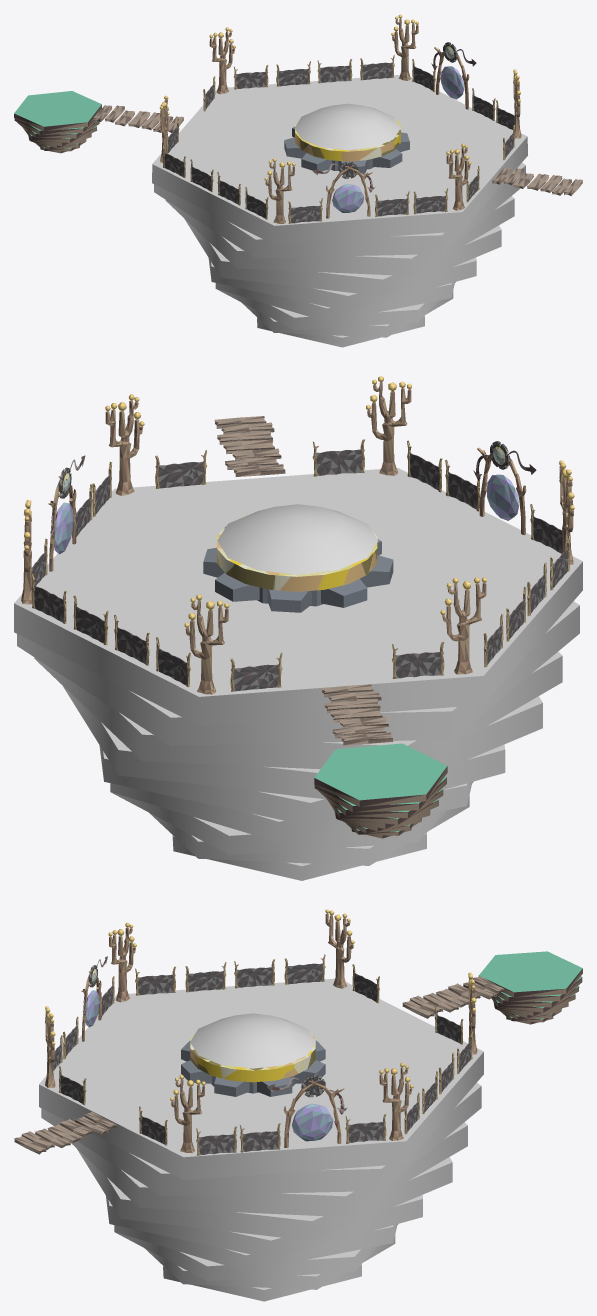
The model's file is Isla_Mecanica_Isla_Entera.FBX.
3 renders of one model, top to bottom at view 1: azimuth 30°, elevation 25°; view 2: azimuth 150°, elevation 25°; view 3: azimuth 270°, elevation 25°, orthographic. The views are drawn at different scales.
Parts seen in each view (by area): view 1: Isla_Mecanica_Isla_Grande, Isla_Mecanica_Suelo, Isla_Mecanica_Reloj_cupula, Isla_Mecanica_Isla_pequena_suelo, Isla_Mecanica_Isla_Pequena_01, Isla_Mecanica_Reloj_tuerca, Isla_Fantasma_Puente003, Isla_Mecanica_Reloj, Isla_Fantasma_Puente002, Isla_Mecanica_Arbol_006, Isla_Mecanica_Arbol_002, Isla_Mecanica_Arbol_005 (+13 smaller); view 2: Isla_Mecanica_Isla_Grande, Isla_Mecanica_Suelo, Isla_Mecanica_Reloj_cupula, Isla_Mecanica_Isla_pequena_suelo, Isla_Mecanica_Reloj_tuerca, Isla_Mecanica_Isla_Pequena_01, Isla_Fantasma_Puente002, Isla_Fantasma_Puente003, Isla_Mecanica_Reloj, Isla_Mecanica_Arbol_004, Isla_Mecanica_Arbol_006, Isla_Mecanica_Arbol_003 (+18 smaller); view 3: Isla_Mecanica_Isla_Grande, Isla_Mecanica_Suelo, Isla_Mecanica_Reloj_cupula, Isla_Mecanica_Isla_pequena_suelo, Isla_Mecanica_Isla_Pequena_01, Isla_Mecanica_Reloj_tuerca, Isla_Fantasma_Puente003, Isla_Mecanica_Reloj, Isla_Fantasma_Puente002, Isla_Mecanica_Portal_002, Isla_Mecanica_Arbol_005, Isla_Mecanica_Arbol_004 (+17 smaller).
Part boxes in pixels (x1,y1,x2,y2): Isla_Mecanica_Isla_Grande: (152, 137, 527, 347); Isla_Mecanica_Suelo: (152, 75, 527, 225); Isla_Mecanica_Reloj_cupula: (294, 103, 400, 150); Isla_Mecanica_Isla_pequena_suelo: (14, 91, 101, 126); Isla_Mecanica_Isla_Pequena_01: (14, 105, 101, 153); Isla_Mecanica_Reloj_tuerca: (284, 126, 409, 174); Isla_Fantasma_Puente003: (492, 167, 582, 195); Isla_Mecanica_Reloj: (295, 111, 400, 161); Isla_Fantasma_Puente002: (93, 105, 183, 132); Isla_Mecanica_Arbol_006: (209, 27, 235, 94); Isla_Mecanica_Arbol_002: (264, 158, 295, 223); Isla_Mecanica_Arbol_005: (391, 14, 418, 80); Isla_Mecanica_Isla_Grande: (14, 562, 582, 880); Isla_Mecanica_Suelo: (14, 467, 582, 696); Isla_Mecanica_Reloj_cupula: (217, 504, 378, 574); Isla_Mecanica_Isla_pequena_suelo: (314, 743, 447, 800); Isla_Mecanica_Reloj_tuerca: (203, 539, 393, 612); Isla_Mecanica_Isla_Pequena_01: (314, 766, 447, 838); Isla_Fantasma_Puente002: (321, 684, 393, 745); Isla_Fantasma_Puente003: (214, 416, 285, 476); Isla_Mecanica_Reloj: (217, 516, 377, 591); Isla_Mecanica_Arbol_004: (105, 394, 144, 495); Isla_Mecanica_Arbol_006: (184, 594, 229, 694); Isla_Mecanica_Arbol_003: (366, 376, 411, 475); Isla_Mecanica_Isla_Grande: (39, 1052, 483, 1301); Isla_Mecanica_Suelo: (39, 978, 483, 1157); Isla_Mecanica_Reloj_cupula: (190, 1013, 315, 1068); Isla_Mecanica_Isla_pequena_suelo: (479, 951, 582, 992); Isla_Mecanica_Isla_Pequena_01: (484, 968, 582, 1024); Isla_Mecanica_Reloj_tuerca: (181, 1040, 325, 1096); Isla_Fantasma_Puente003: (14, 1111, 116, 1154); Isla_Mecanica_Reloj: (190, 1033, 315, 1082); Isla_Fantasma_Puente002: (402, 976, 504, 1018); Isla_Mecanica_Portal_002: (267, 1074, 347, 1147); Isla_Mecanica_Arbol_005: (379, 1062, 413, 1140); Isla_Mecanica_Arbol_004: (170, 1075, 205, 1153).
Size of the model in its own units: 656 by 389 by 757.
6 materials, 6 textured.
